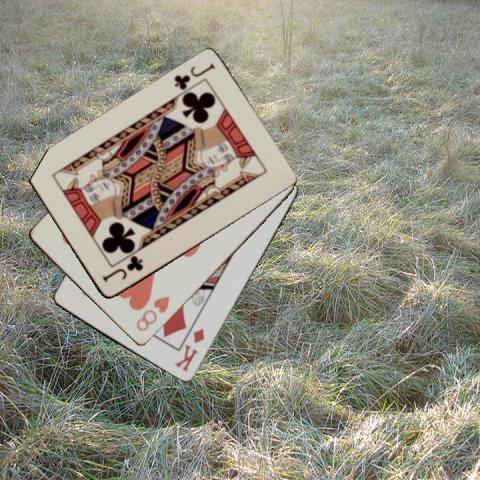8h: (133, 293, 172, 333)
Jc: (99, 254, 145, 285), (171, 61, 216, 92)
Kd: (172, 325, 207, 374)
